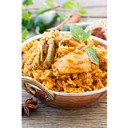briyani: (27, 33, 106, 90)
